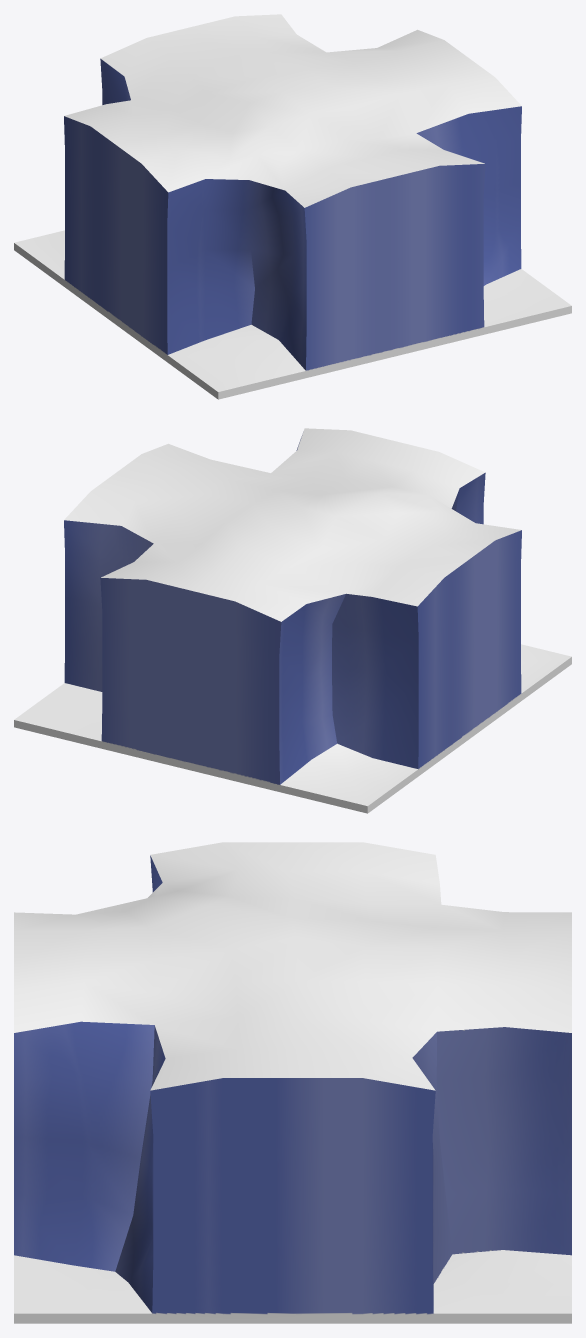
File: wall_slim_join4_1.glb
The picture shows the model from 3 angles, top to bottom: view 1: azimuth 30°, elevation 25°; view 2: azimuth 150°, elevation 25°; view 3: azimuth 270°, elevation 25°; orthographic projection. The views are drawn at different scales.
Parts seen in each view (by area): view 1: wall_slim_join4_1.001; view 2: wall_slim_join4_1.001; view 3: wall_slim_join4_1.001.
Part boxes in pixels (x1,y1,x2,y2): wall_slim_join4_1.001: (14,14,571,399); wall_slim_join4_1.001: (14,428,571,813); wall_slim_join4_1.001: (14,842,571,1323).
Size of the model in its own units: 2 by 1.04 by 2.
Materials: 1 (1 with a texture image).
